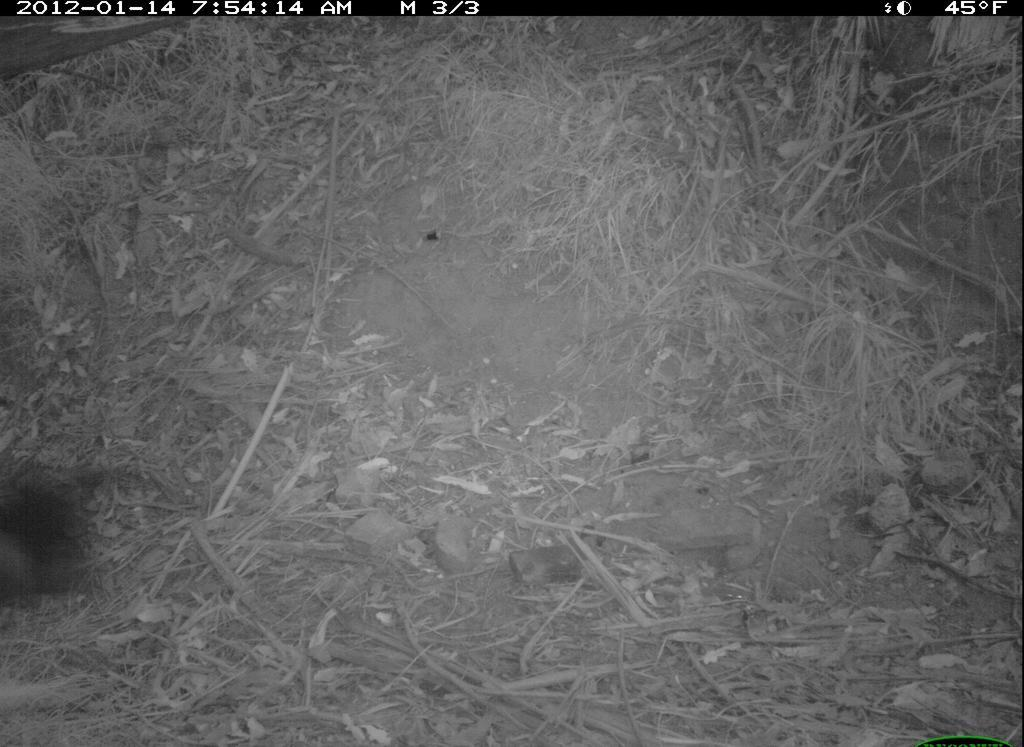dog: (4, 457, 108, 641)
